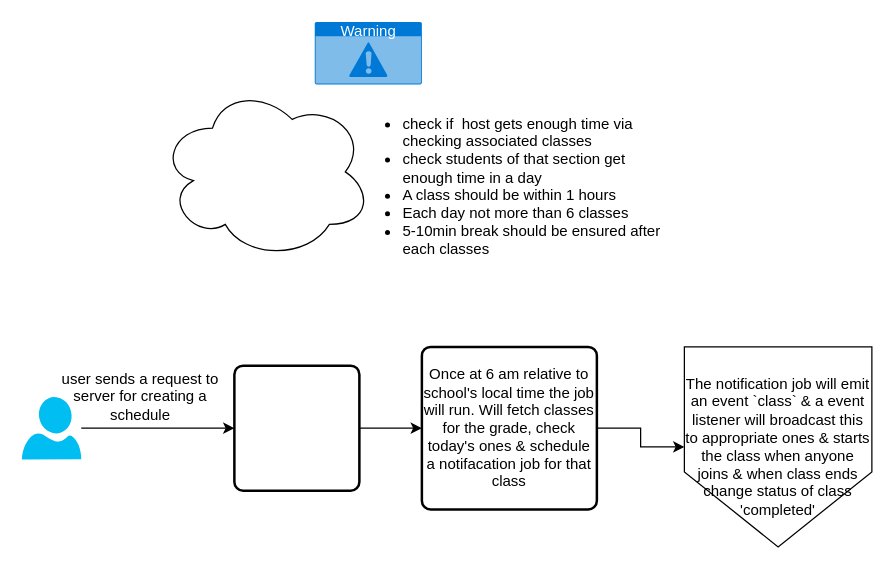
The diagram is 894 pixels wide and 569 high, and some of its shapes have lost their labels. The centre of each missing label's shape, as x and y in pixels:
"Create daily (workday) cronjob for the grade" goes at pixel 296 427.
"Remember to check the followings before adding the classes to database" goes at pixel 265 171.
